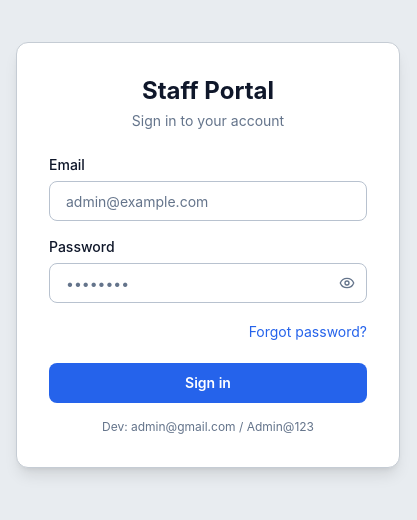
Scenario: AdminLoginPage › still shows access denied on 403 response
Type "admin@test.com" into the field with placeholder "admin@example.com". click: (208, 201)
box: [49,181,367,221]
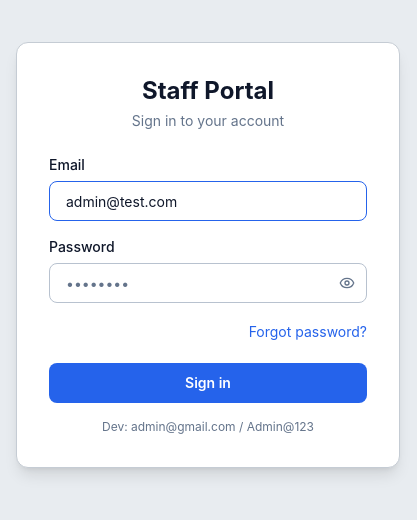
Type "password123" into the password field with placeholder "••••••••". click: (208, 283)
box: [49,263,367,303]
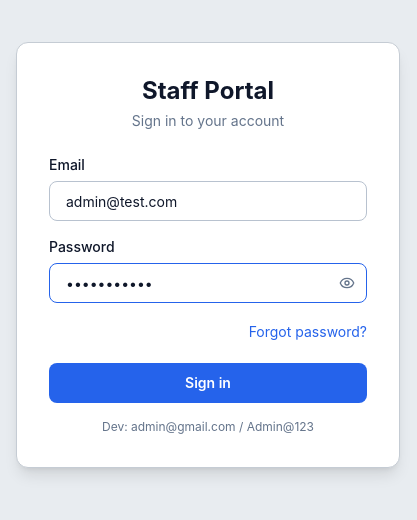
Click the button "Sign in". click: (208, 383)
box: [49,363,367,403]
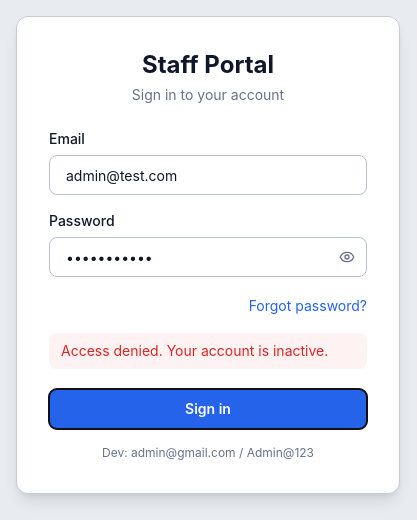
Result: the text "Access denied. Your account is inactive." is shown at [49,333,367,369]
